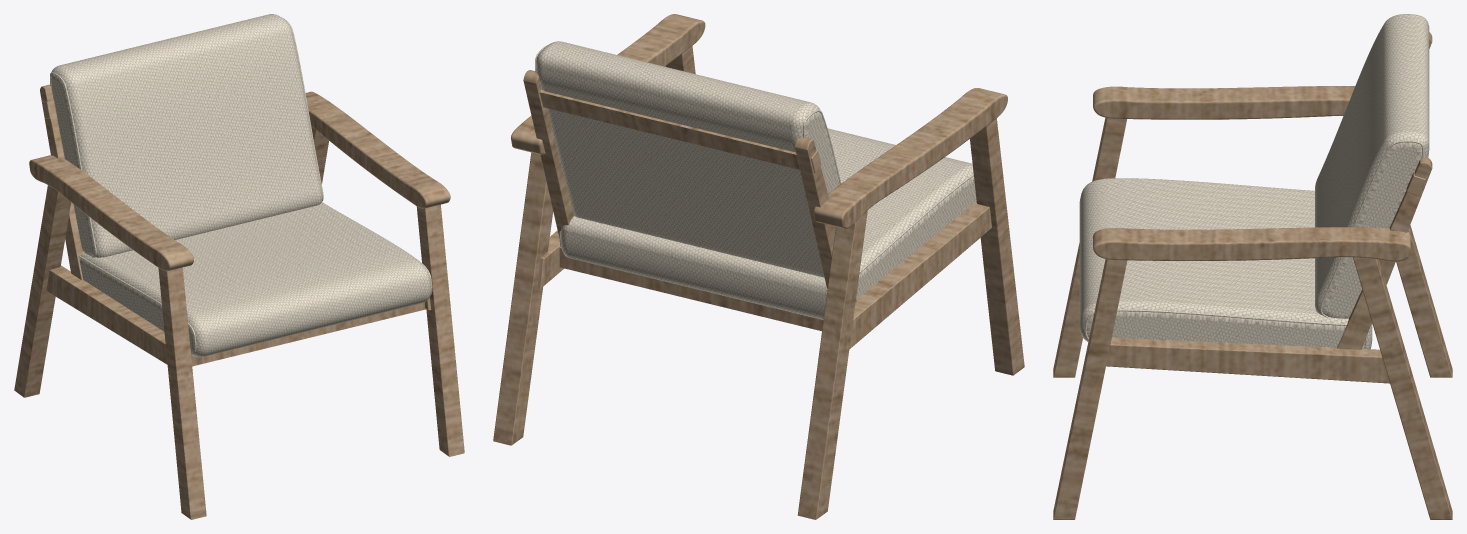
Rendered from chair.glb.
3 views of the same model, side by side, from view 1: azimuth 30°, elevation 25°; view 2: azimuth 150°, elevation 25°; view 3: azimuth 270°, elevation 25° (orthographic). The views are drawn at different scales.
Visible parts, largest first — view 1: back-pad, seat-pad, front-leg-left, front-leg-right, armrest-left, armrest-right, rear-leg-left, side-rail-left, front-tie, back-upright-left; view 2: back-pad, seat-pad, rear-leg-left, armrest-left, rear-leg-right, front-leg-left, side-rail-left, back-tie, armrest-right, rear-tie, back-upright-right, back-upright-left (+1 smaller); view 3: seat-pad, back-pad, armrest-right, side-rail-right, armrest-left, rear-leg-right, front-leg-right, front-leg-left, rear-leg-left, back-upright-right, seat-pad-welt-1, back-pad-welt-1.
Boxes of the visible parts, x1,y1,x2,y2 form: back-pad: (51,14,322,257); seat-pad: (79,202,431,357); front-leg-left: (158,267,206,519); front-leg-right: (416,204,464,456); armrest-left: (29,155,193,271); armrest-right: (305,91,450,208); rear-leg-left: (14,185,71,397); side-rail-left: (46,265,167,364); front-tie: (191,302,426,366); back-upright-left: (40,84,83,279); back-pad: (536,41,839,277); seat-pad: (560,128,976,320); rear-leg-left: (797,210,867,519); armrest-left: (813,88,1007,228); rear-leg-right: (493,152,553,445); front-leg-left: (970,118,1024,375); side-rail-left: (849,201,991,349); back-tie: (539,89,821,172); armrest-right: (511,14,705,154); rear-tie: (559,247,823,331); back-upright-right: (523,70,573,238); back-upright-left: (794,137,856,302); seat-pad: (1079,178,1372,349); back-pad: (1315,14,1429,318); armrest-right: (1093,227,1410,261); side-rail-right: (1106,337,1389,383); armrest-left: (1093,86,1355,119); rear-leg-right: (1353,257,1452,519); front-leg-right: (1053,259,1127,519); front-leg-left: (1053,117,1126,377); rear-leg-left: (1396,225,1452,377); back-upright-right: (1337,157,1432,349); seat-pad-welt-1: (1084,309,1367,348); back-pad-welt-1: (1320,140,1423,317).
Bounding box in the file's own units: 0.7 × 0.78 × 0.76.
2 materials, 2 textured.
